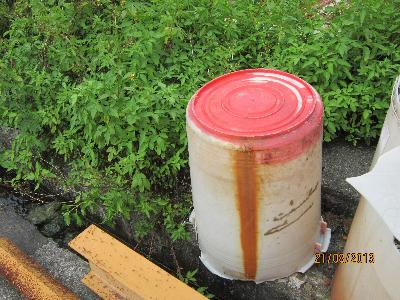bucket: (184, 67, 332, 285)
